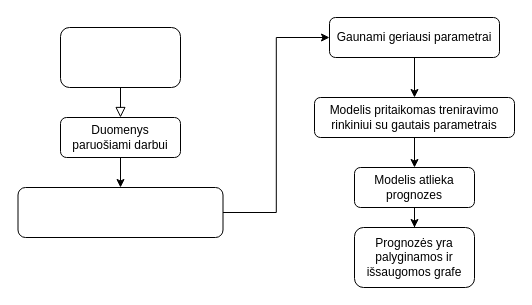
This 532x305 diagram has some shape labels left out. The centre of each missing label's shape, as x and y in pixels:
Duomenys padalinami į treniravimo ir testavimo rinkinius: the point at 120,212
Gaunami kriptovaliutų poros duomenys iš Binance API: the point at 120,57
